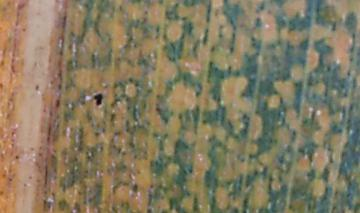tarspot: (89, 90, 107, 109), (130, 183, 141, 195)
